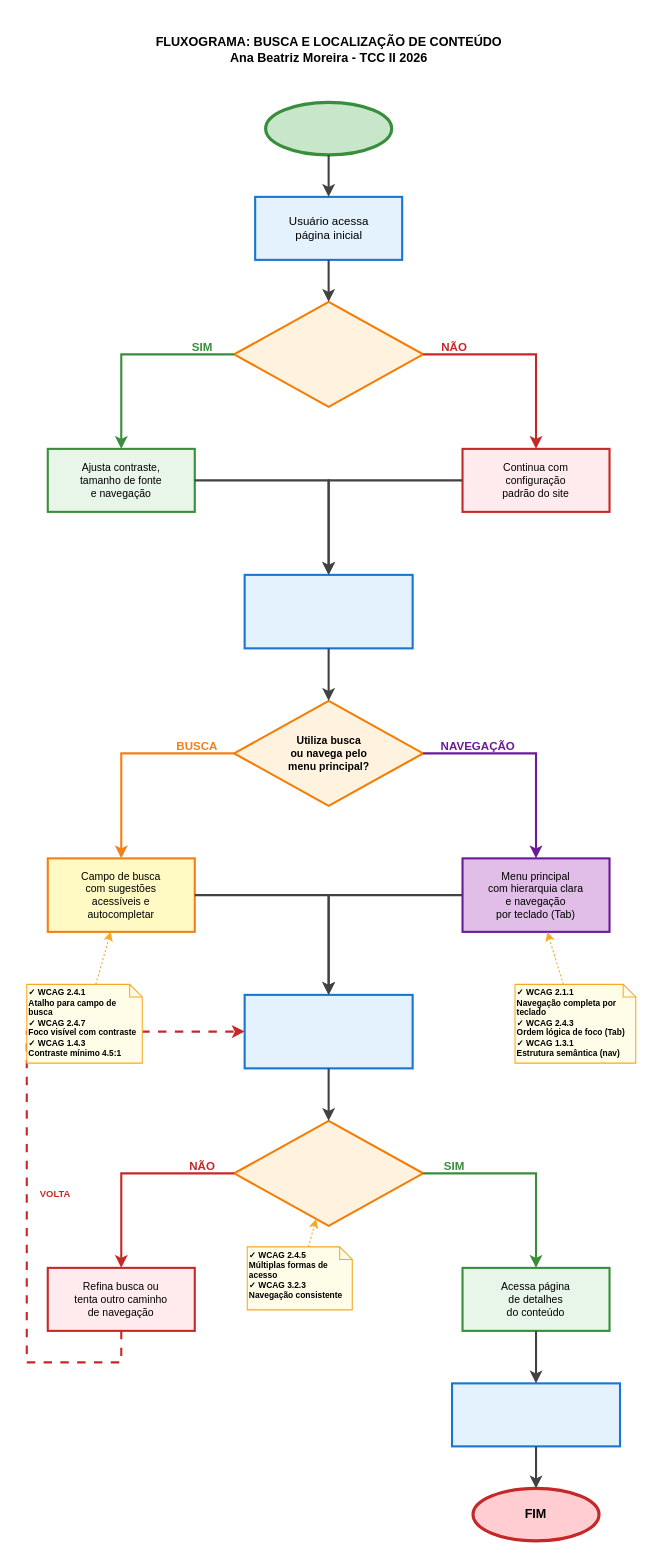
The diagram is 654 pixels wide and 1560 high, and some of its shapes have lost their labels. The centre of each missing label's shape, as x and y in pixels:
Ativa recursos de acessibilidade?: (x=328, y=353)
Encontrou o conteúdo desejado?: (x=328, y=1172)
Interface carregada com as configurações escolhidas pelo usuário: (x=328, y=611)
INÍCIO: (x=328, y=128)
Lê o conteúdo completo com recursos de acessibilidade: (x=535, y=1414)
Página de resultados com lista ordenada, paginação acessível e filtros: (x=328, y=1031)
